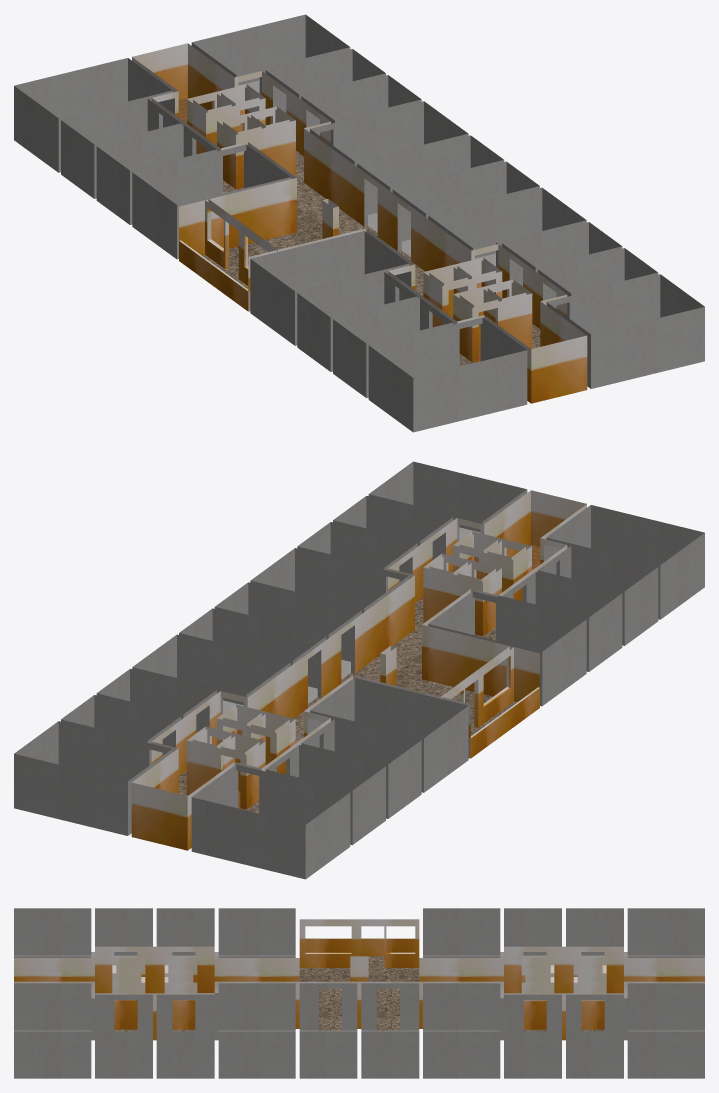
File: obshaga_Backup.fbx
3 renders of one model, top to bottom at view 1: azimuth 30°, elevation 25°; view 2: azimuth 150°, elevation 25°; view 3: azimuth 270°, elevation 25°, orthographic. The views are drawn at different scales.
Visible parts, largest first — view 1: Плоскость; view 2: Плоскость; view 3: Плоскость.
Part boxes in pixels (x1=…): Плоскость: x1=14, y1=14, x2=704, y2=432; Плоскость: x1=14, y1=461, x2=704, y2=879; Плоскость: x1=14, y1=908, x2=704, y2=1078.
Size of the model in its own units: 1510 by 270 by 3580.
